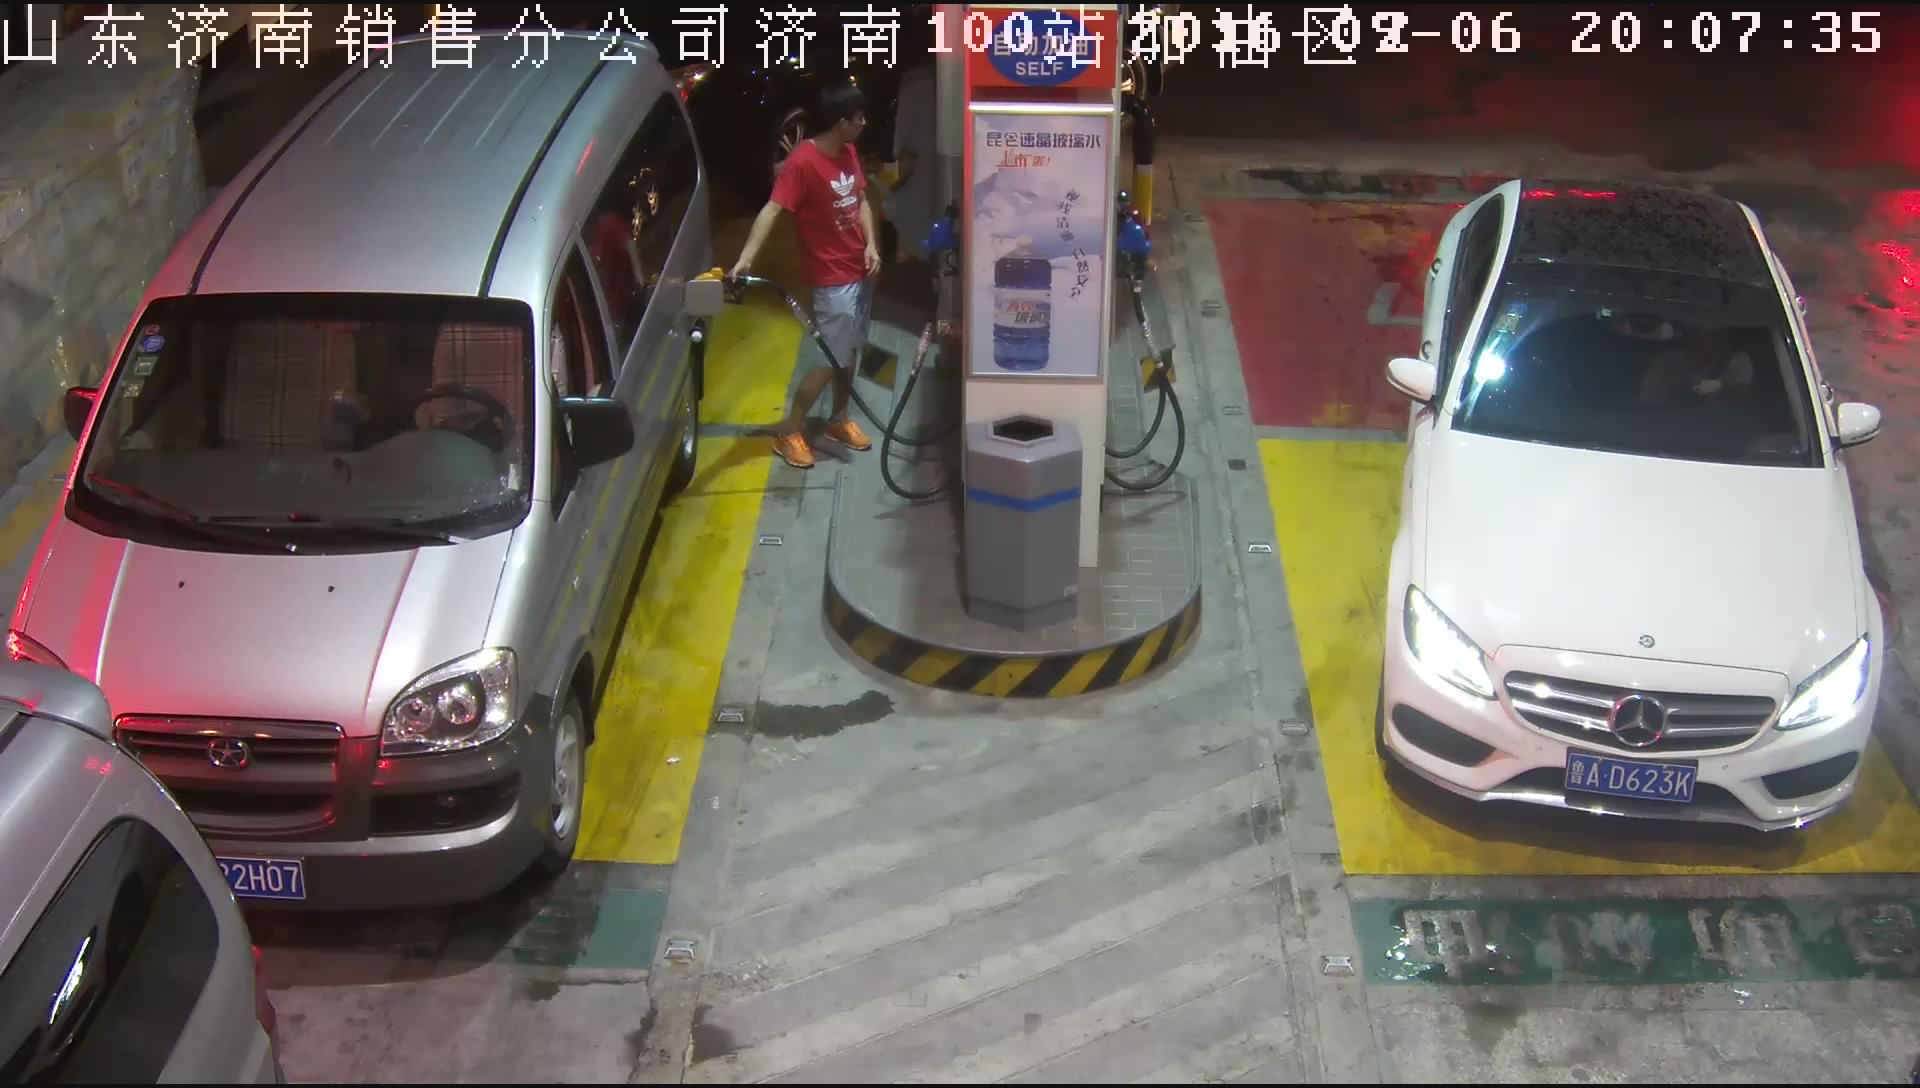blue: (1563, 750, 1700, 808)
